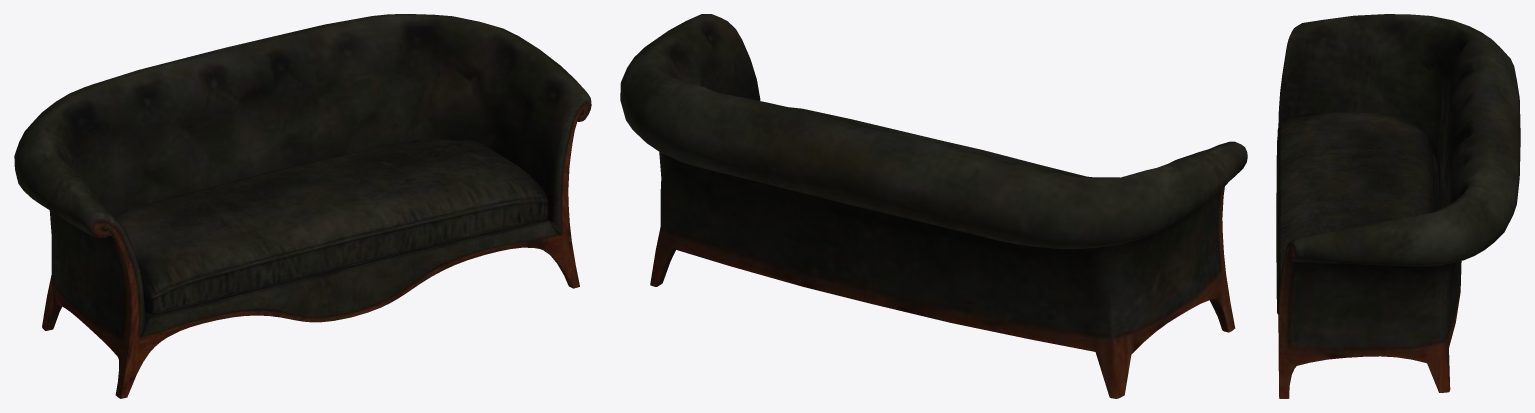
Rendered from sofa_02.glb.
3 renders of one model, left to right at view 1: azimuth 30°, elevation 25°; view 2: azimuth 150°, elevation 25°; view 3: azimuth 270°, elevation 25°, orthographic. The views are drawn at different scales.
Visible parts, largest first — view 1: sofa_02_Base; view 2: sofa_02_Base; view 3: sofa_02_Base.
Boxes of the visible parts, x1,y1,x2,y2 form: sofa_02_Base: (14, 14, 591, 398); sofa_02_Base: (620, 14, 1247, 398); sofa_02_Base: (1276, 14, 1520, 398).
Bounding box in the file's own units: 1.81 × 0.7095 × 0.8176.
1 material, 1 textured.
